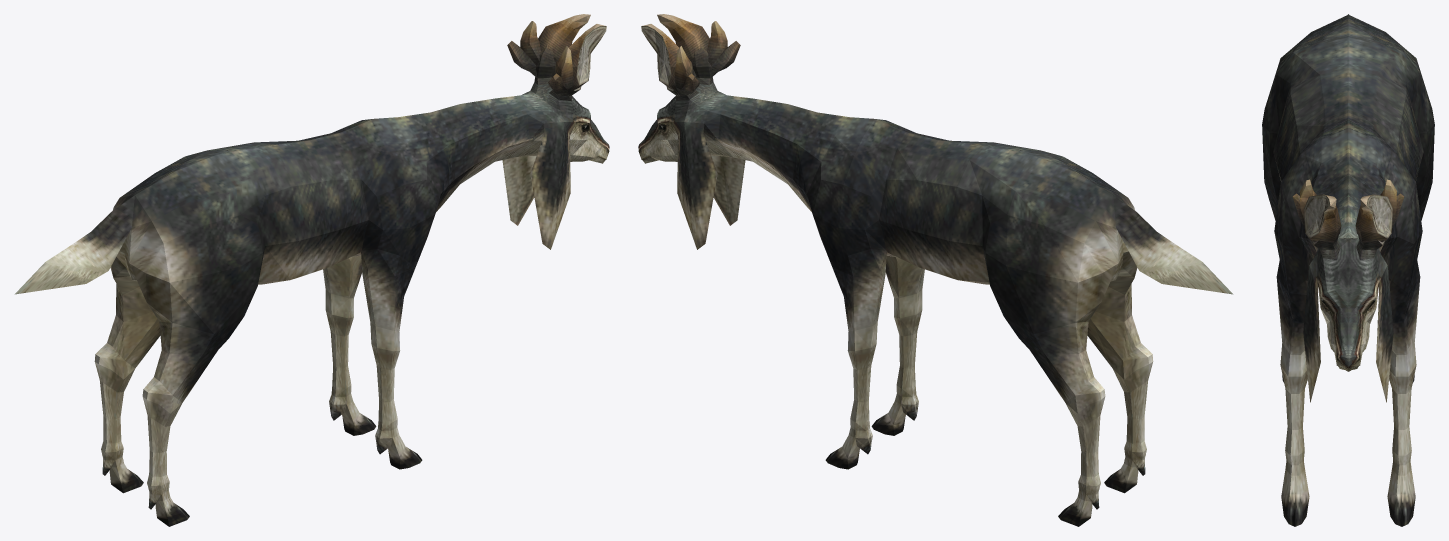
Rendered from Kelbi1.glb.
3 renders of one model, left to right at view 1: azimuth 30°, elevation 25°; view 2: azimuth 150°, elevation 25°; view 3: azimuth 270°, elevation 25°, orthographic. The views are drawn at different scales.
Parts seen in each view (by area): view 1: m034_01_Mesh, m034_02.001_Mesh.002; view 2: m034_01_Mesh, m034_02.001_Mesh.002; view 3: m034_01_Mesh, m034_02.001_Mesh.002, m034_02_Mesh.001.
Part boxes in pixels (x1=…): m034_01_Mesh: x1=14, y1=77, x2=609, y2=526; m034_02.001_Mesh.002: x1=507, y1=14, x2=606, y2=95; m034_01_Mesh: x1=638, y1=77, x2=1233, y2=526; m034_02.001_Mesh.002: x1=641, y1=14, x2=740, y2=95; m034_01_Mesh: x1=1262, y1=14, x2=1434, y2=526; m034_02.001_Mesh.002: x1=1292, y1=179, x2=1404, y2=243; m034_02_Mesh.001: x1=1312, y1=236, x2=1384, y2=250.
Size of the model in its own units: 2.1 by 1.27 by 0.4548.
2 materials, 2 textured.
